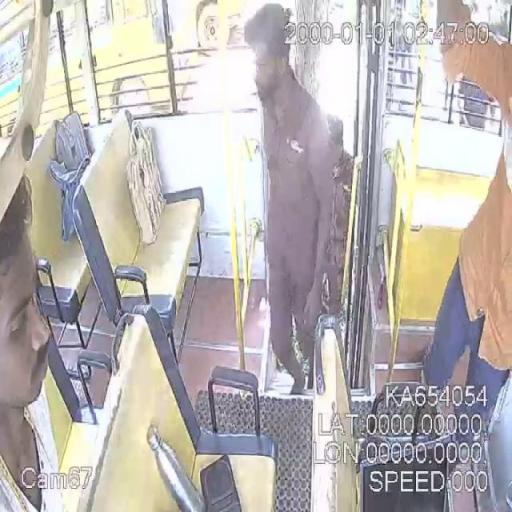persona: (418, 19, 512, 510), (242, 3, 342, 395), (0, 172, 66, 510)
